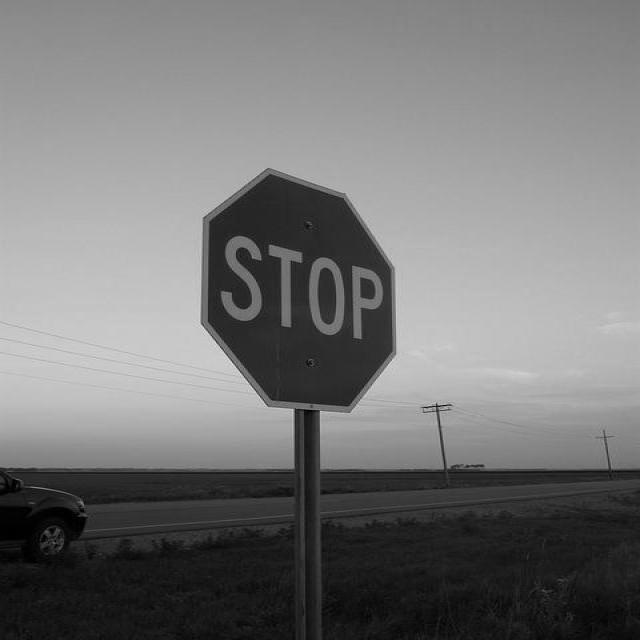vehicle: (0, 469, 86, 566)
